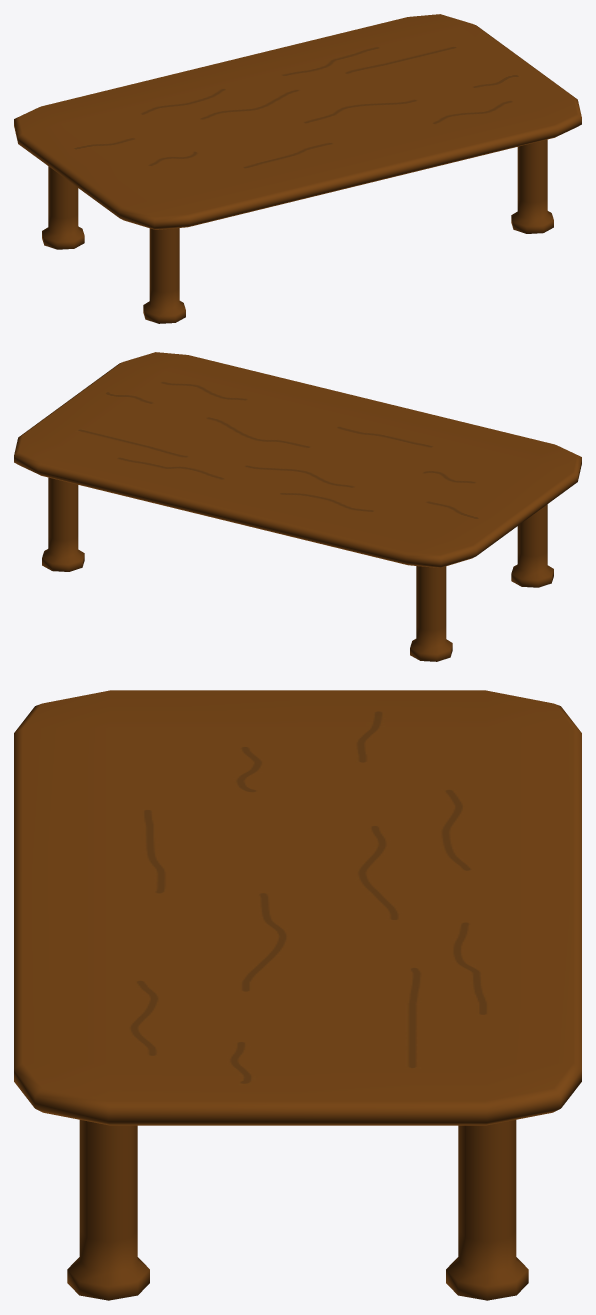
The model's file is Table.fbx.
The picture shows the model from 3 angles, top to bottom: view 1: azimuth 30°, elevation 25°; view 2: azimuth 150°, elevation 25°; view 3: azimuth 270°, elevation 25°; orthographic projection. The views are drawn at different scales.
Parts seen in each view (by area): view 1: Table; view 2: Table; view 3: Table.
Boxes of the visible parts, x1=… form: Table: x1=14, y1=14, x2=581, y2=323; Table: x1=14, y1=352, x2=581, y2=661; Table: x1=14, y1=690, x2=581, y2=1300.
Size of the model in its own units: 193 by 47.21 by 111.
